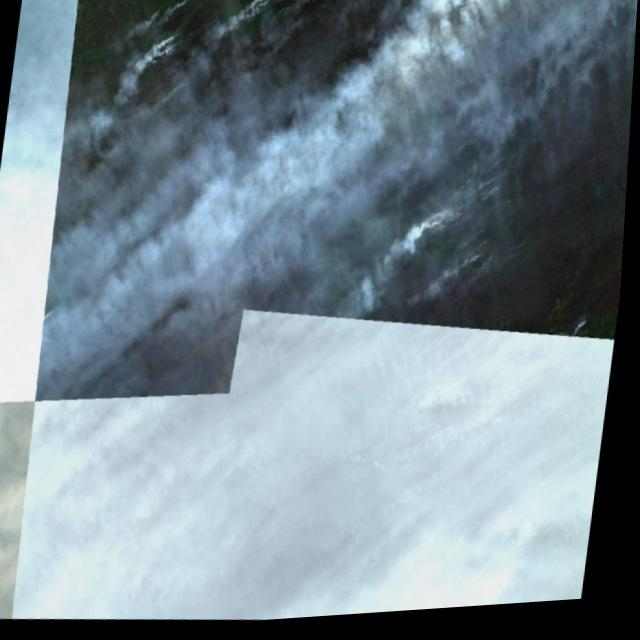fire: (436, 163, 514, 234), (461, 226, 510, 292), (144, 0, 202, 27), (162, 29, 185, 67)
